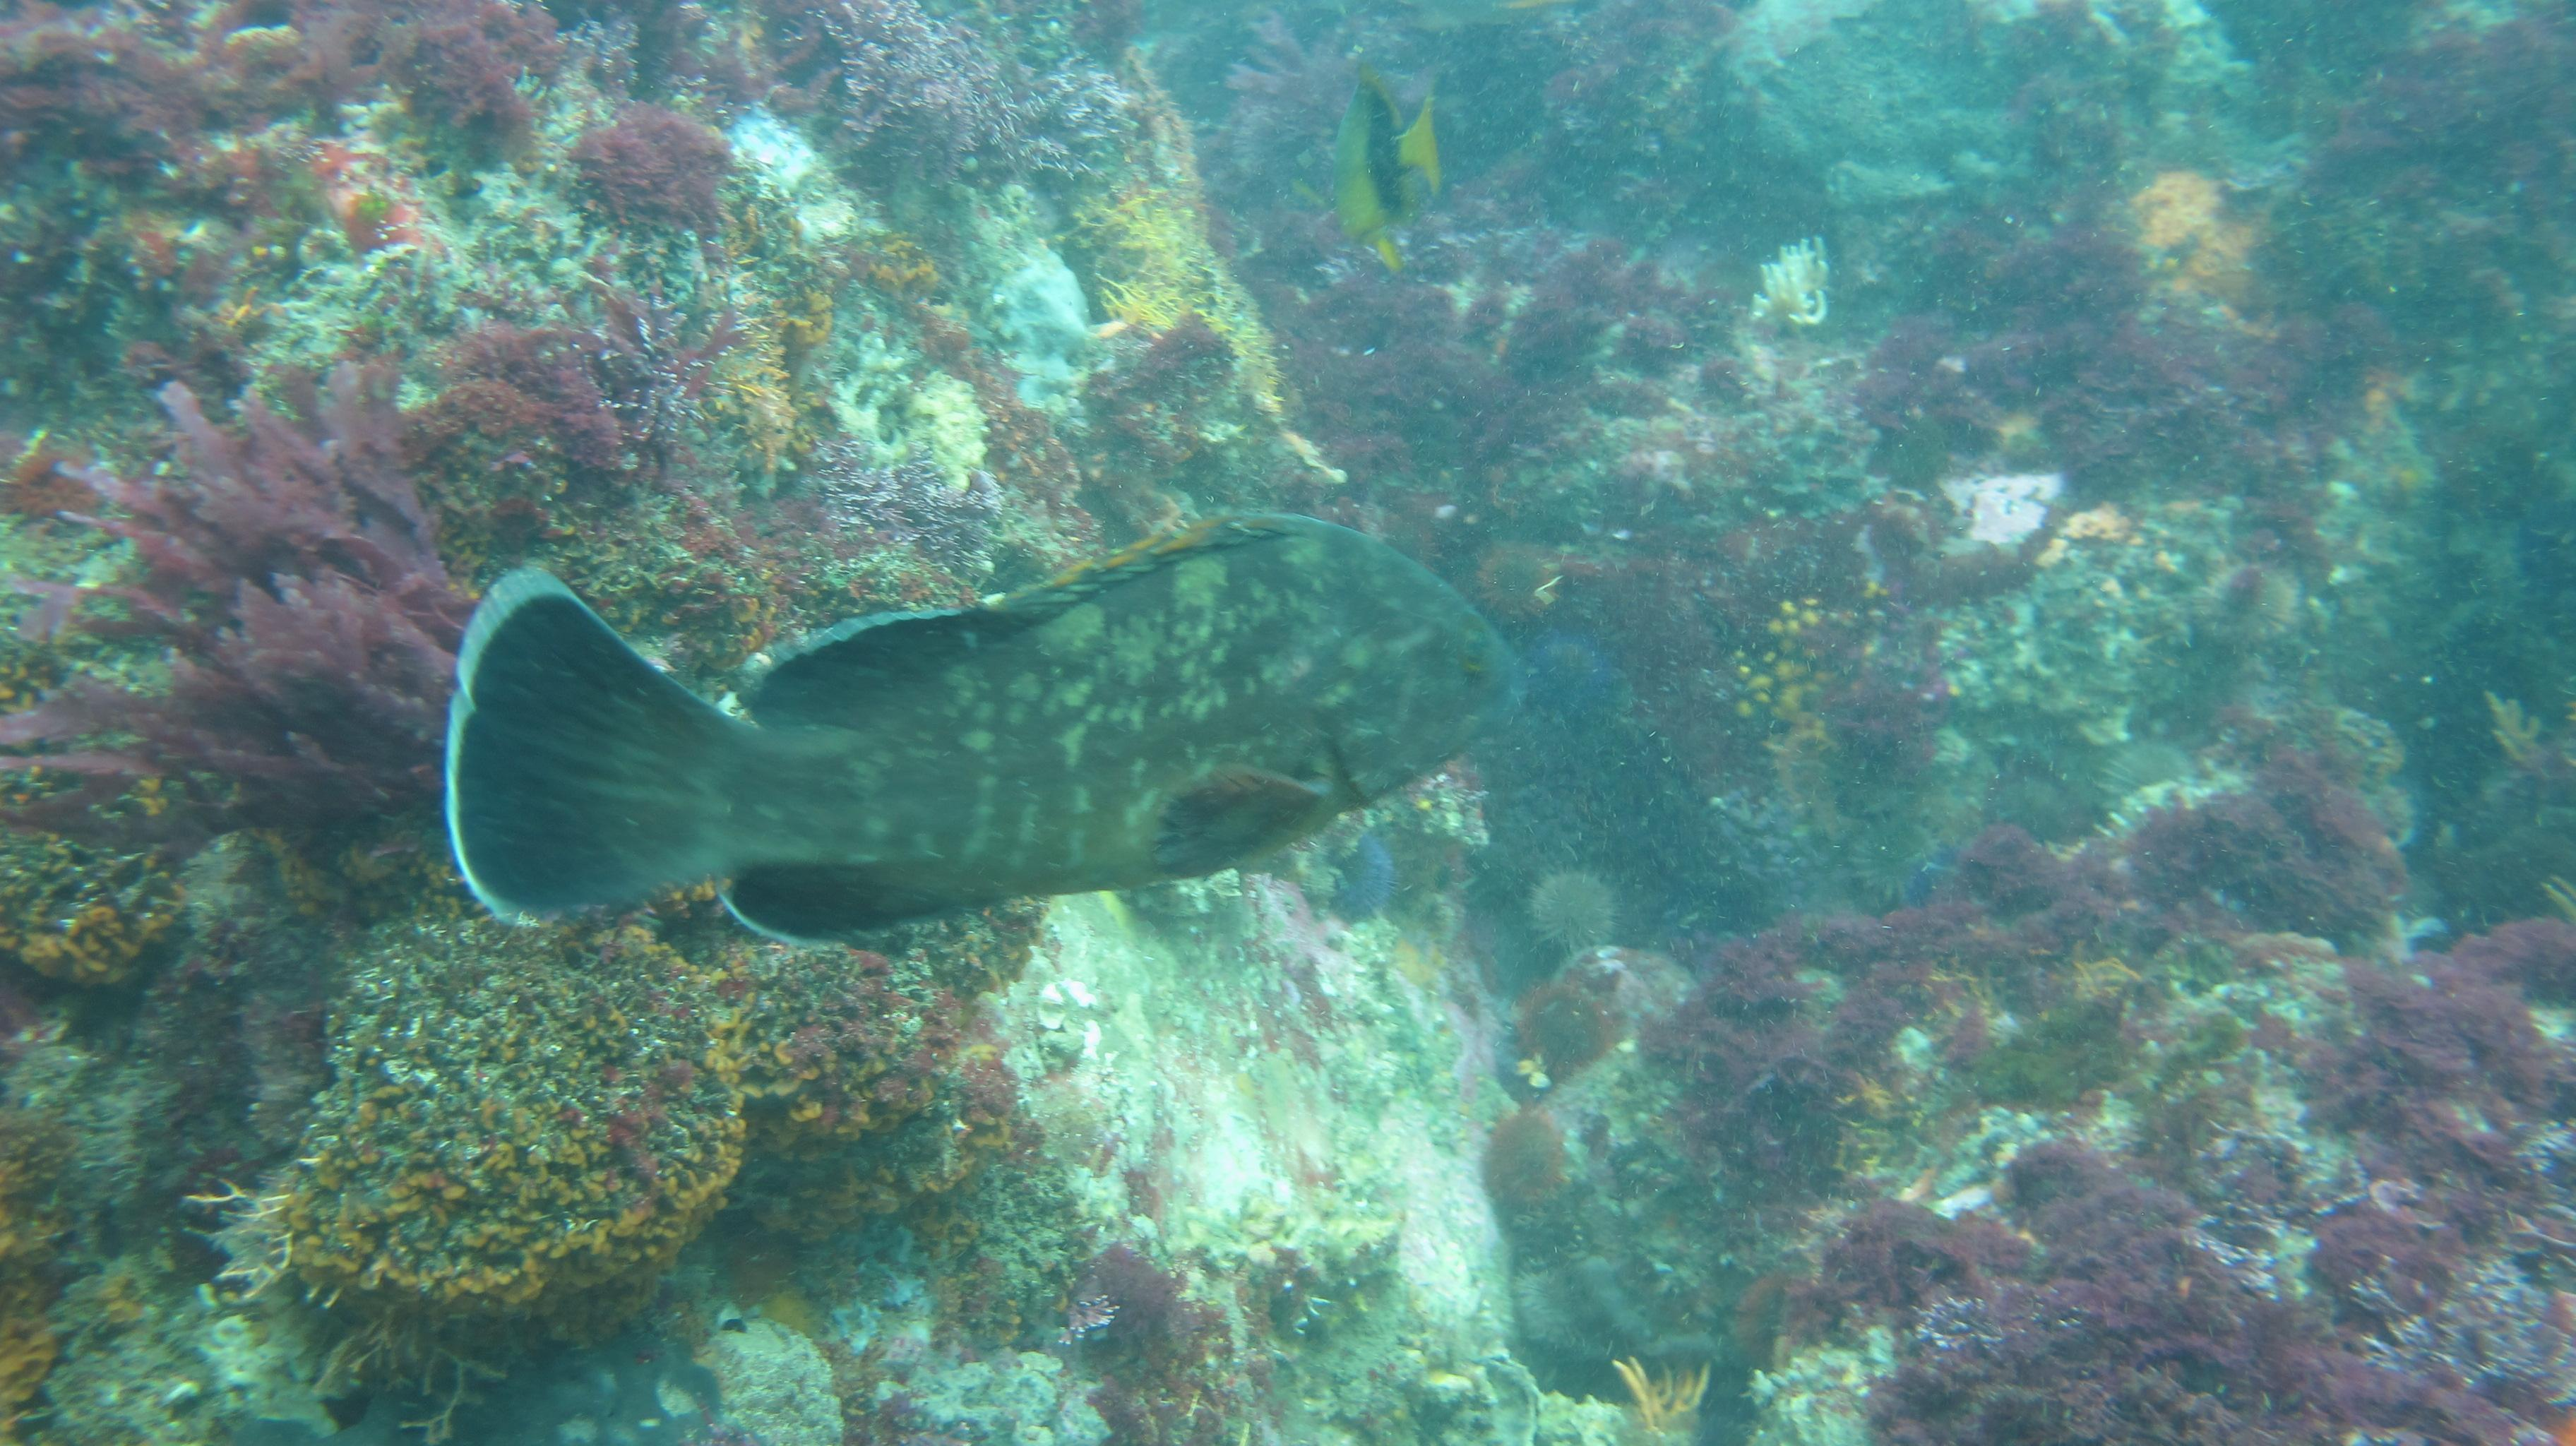Fish: (336, 400, 1709, 979)
